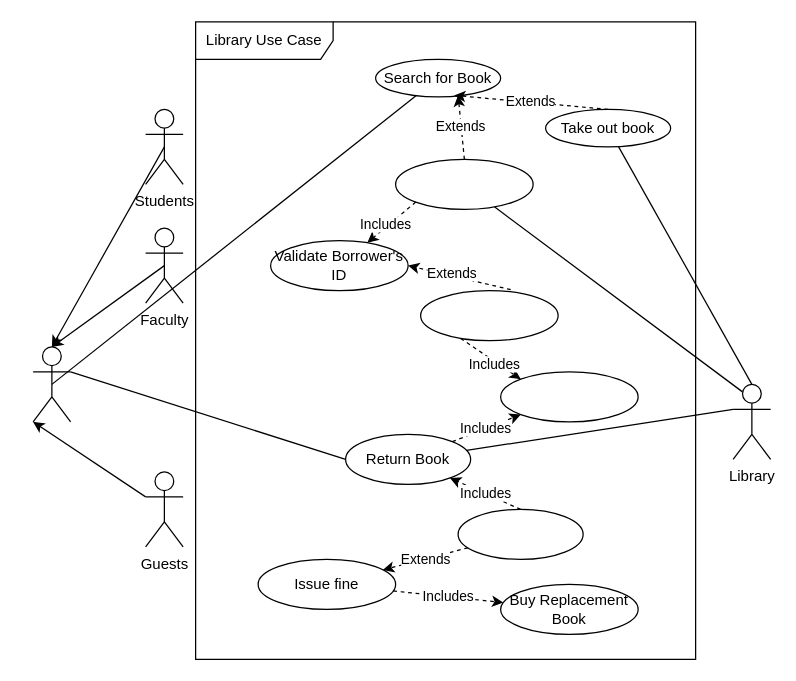
The diagram is 796 pixels wide and 681 high, and some of its shapes have lost their labels. The shapes that lost their labels are listed below. From the top down, each one's centre as x and y in pixels, then its label:
At [463,183]: "Ask to be notified about availability".
At [488,315]: "Loan book out".
At [51,384]: "Borrower".
At [568,396]: "Update status of book".
At [520,533]: "Assess Damage".
